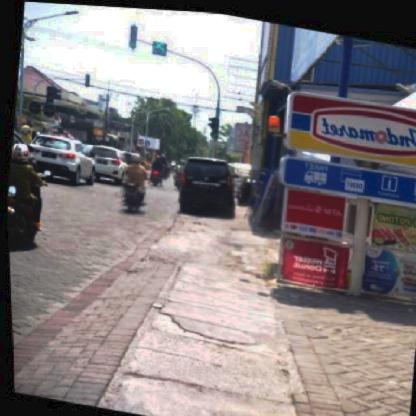Traffic Light -Green-: (42, 84, 55, 110), (206, 115, 219, 138), (127, 23, 138, 49)
